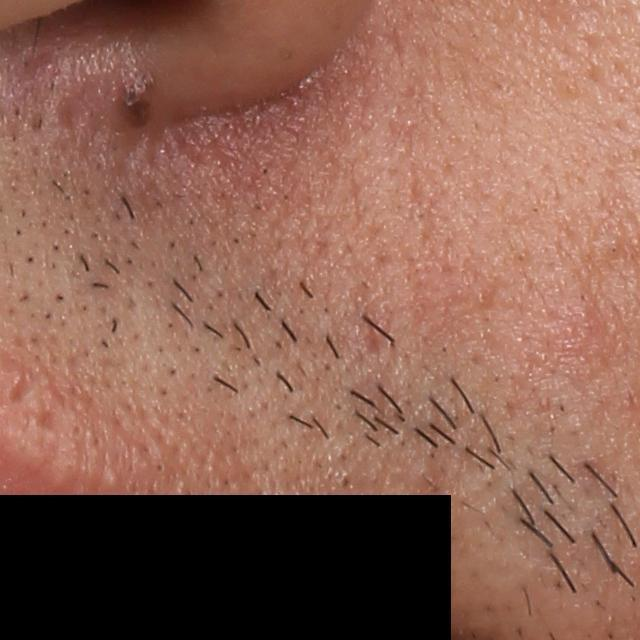atrophic_scar: (8, 361, 39, 408)
nevus: (111, 63, 181, 130)
